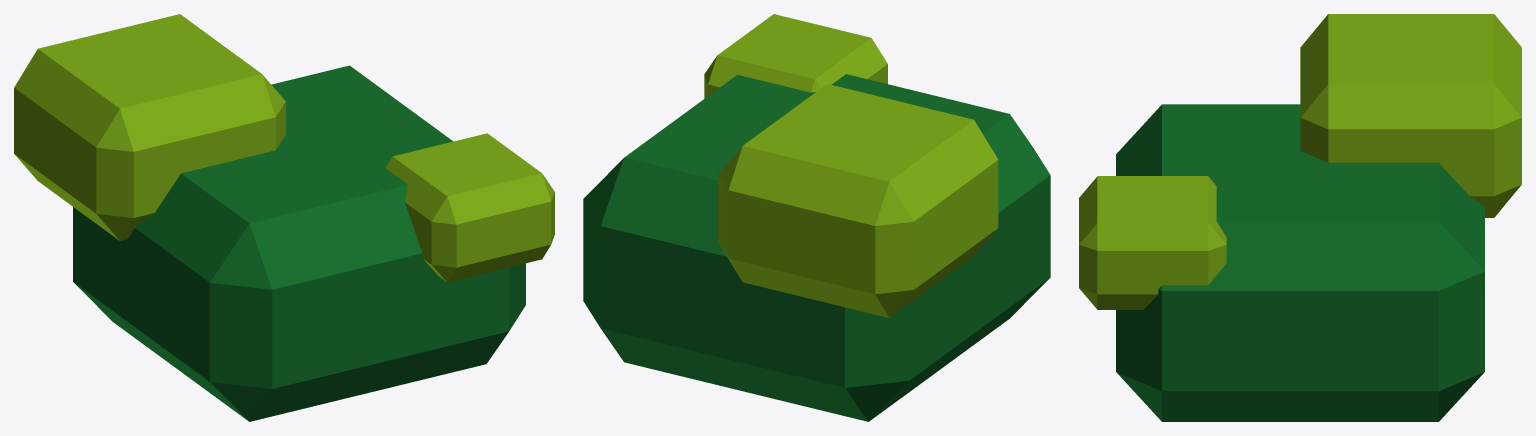
Rendered from bush.gltf.
3 renders of one model, left to right at view 1: azimuth 30°, elevation 25°; view 2: azimuth 150°, elevation 25°; view 3: azimuth 270°, elevation 25°, orthographic. The views are drawn at different scales.
Parts seen in each view (by area): view 1: rounded_cuboid (×3); view 2: rounded_cuboid (×3); view 3: rounded_cuboid (×3).
Boxes of the visible parts, x1,y1,x2,y2 form: rounded_cuboid (×3): [14, 14, 554, 421]; rounded_cuboid (×3): [583, 14, 1050, 421]; rounded_cuboid (×3): [1079, 14, 1521, 421].
Bounding box in the file's own units: 0.6875 × 0.5 × 0.75.
1 material, 1 textured.
